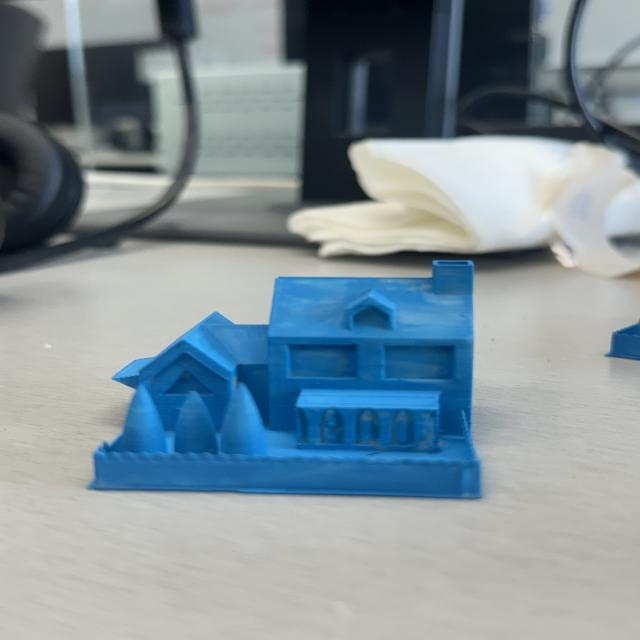house: (86, 259, 492, 500)
